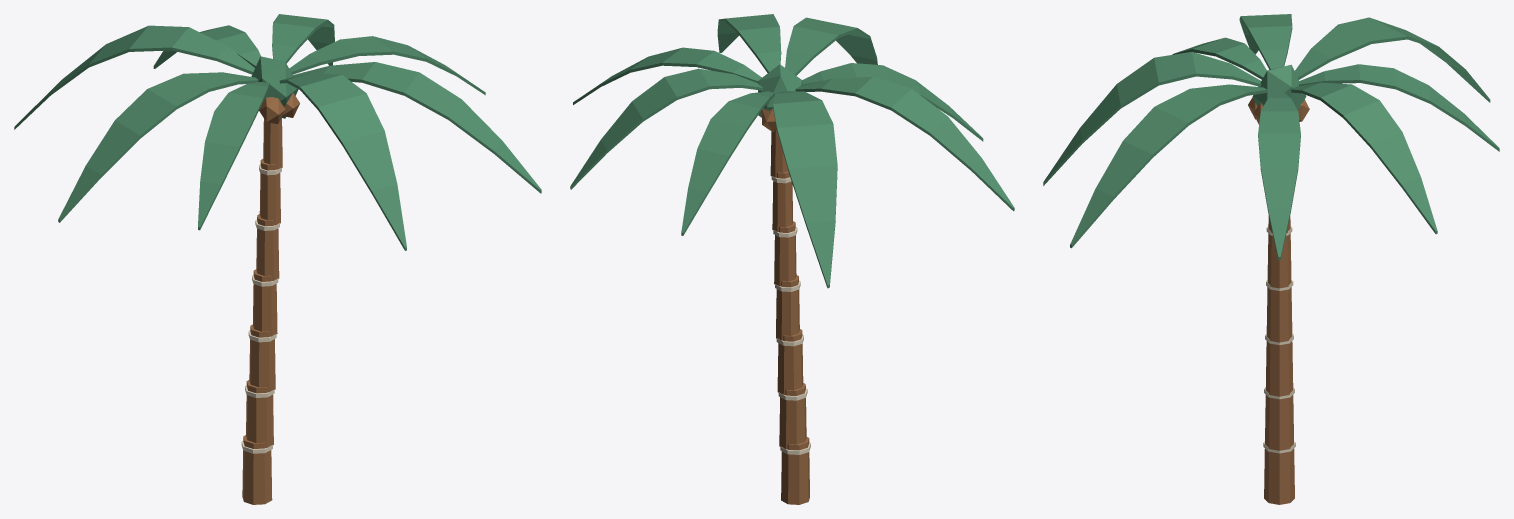
The model's file is LM_PROP_PalmMamak.glb.
3 views of the same model, side by side, from view 1: azimuth 30°, elevation 25°; view 2: azimuth 150°, elevation 25°; view 3: azimuth 270°, elevation 25° (orthographic). The views are drawn at different scales.
Parts seen in each view (by area): view 1: LM_PROP_PalmMamak; view 2: LM_PROP_PalmMamak; view 3: LM_PROP_PalmMamak.
Boxes of the visible parts, x1=… form: LM_PROP_PalmMamak: x1=14, y1=14, x2=541, y2=504; LM_PROP_PalmMamak: x1=570, y1=14, x2=1014, y2=504; LM_PROP_PalmMamak: x1=1043, y1=14, x2=1499, y2=504.
Size of the model in its own units: 7.55 by 7.3 by 6.76.
